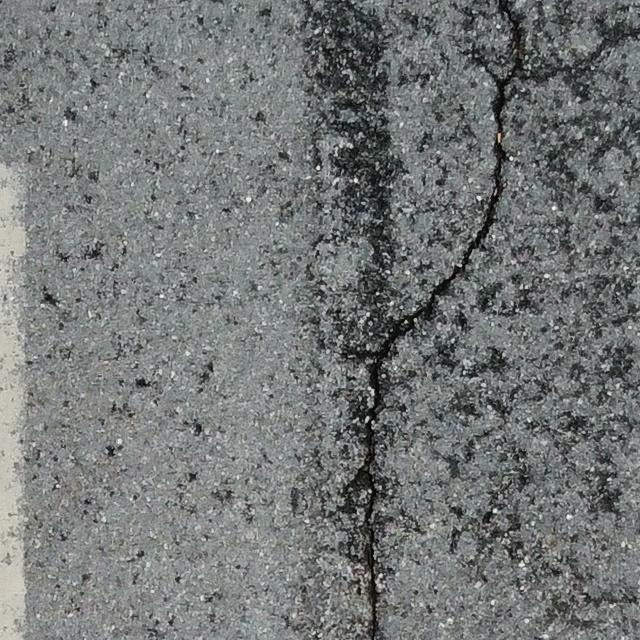LongitudinalCrack: (360, 10, 527, 639)
